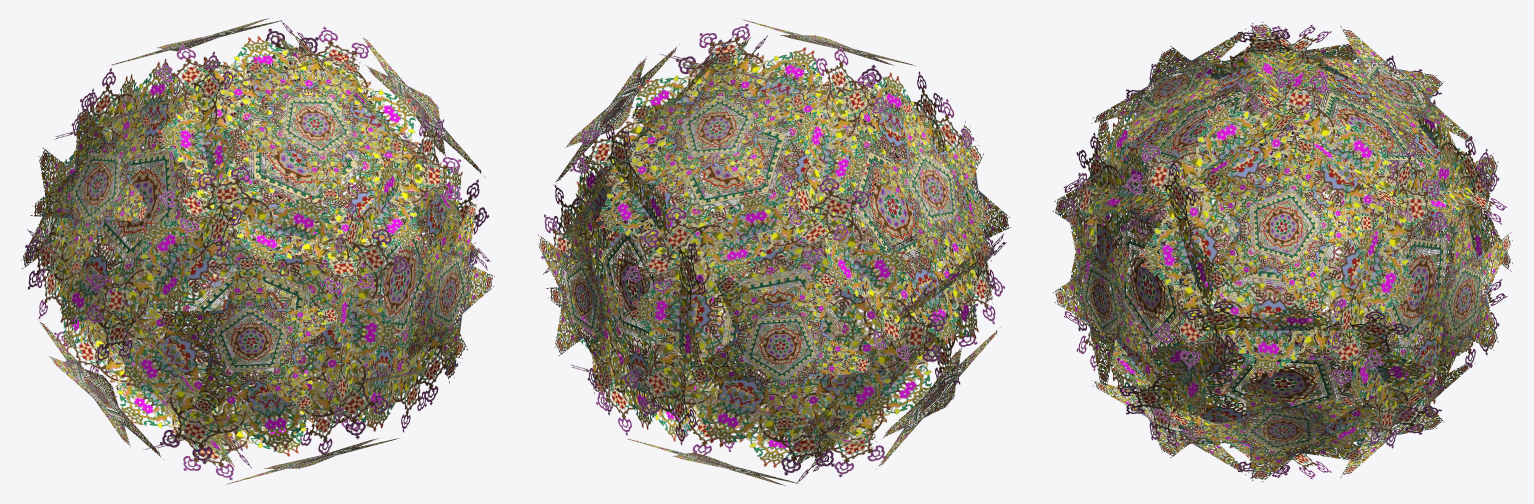
The model's file is SnubIcosidodecadodecahedron3.gltf.
3 renders of one model, left to right at view 1: azimuth 30°, elevation 25°; view 2: azimuth 150°, elevation 25°; view 3: azimuth 270°, elevation 25°, orthographic.
Visible parts, largest first — view 1: SnubIcosidodecadodecahedron3; view 2: SnubIcosidodecadodecahedron3; view 3: SnubIcosidodecadodecahedron3.
Boxes of the visible parts, left/top/right/bottom form: SnubIcosidodecadodecahedron3: left=21, top=18, right=494, bottom=484; SnubIcosidodecadodecahedron3: left=537, top=19, right=1010, bottom=485; SnubIcosidodecadodecahedron3: left=1053, top=21, right=1512, bottom=482.
Bounding box in the file's own units: 2.21 × 2.21 × 2.21.
Materials: 1 (1 with a texture image).
